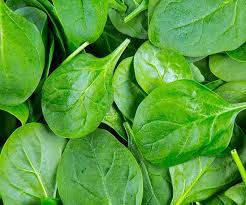spinach: (130, 75, 246, 168), (42, 37, 118, 137), (63, 126, 137, 199)
